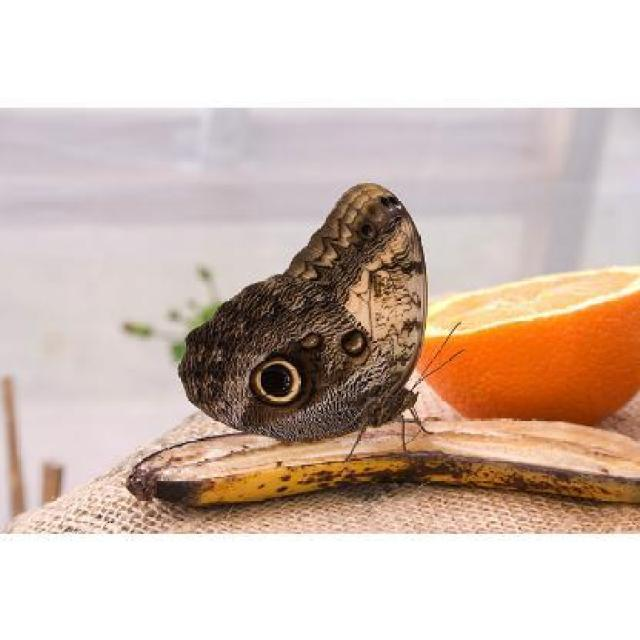Orange: (408, 274, 624, 418)
